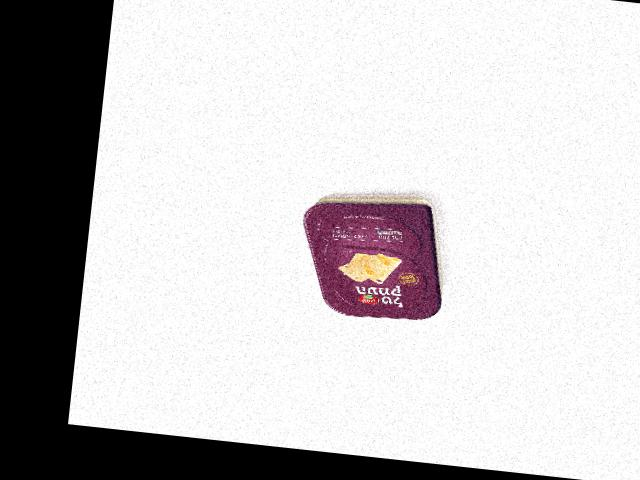cheese: (292, 183, 453, 326)
